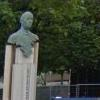Statue: (6, 7, 56, 99)
